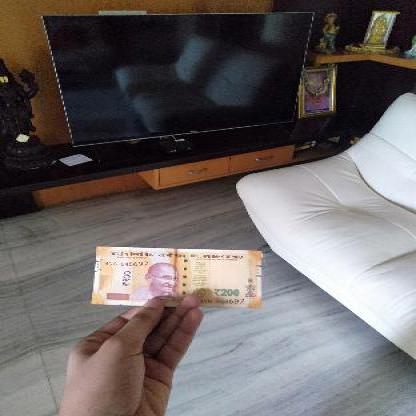New200Front: (96, 249, 264, 308)
